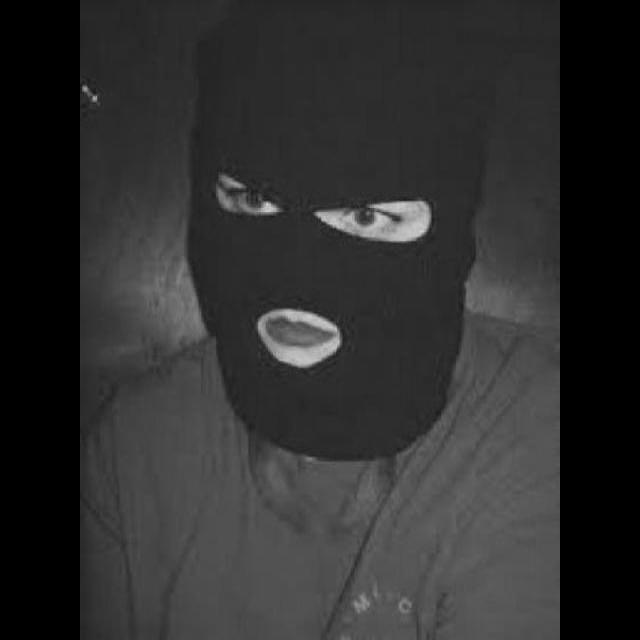6_pasamontana: (184, 0, 486, 452)
